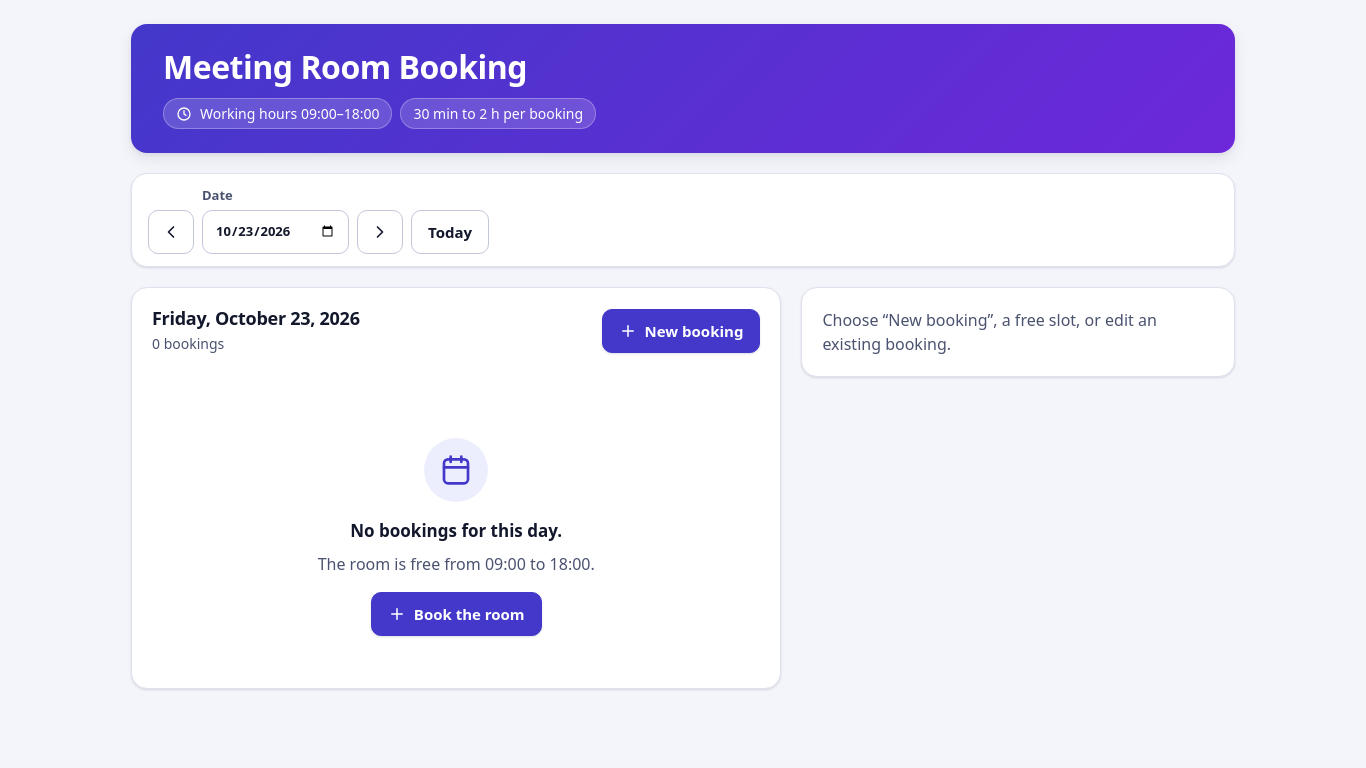
Test: creating a booking › books a room and announces success
Expected: the text "No bookings for this day." is shown, [350,518,562,544]
Click the button "New booking" at (681, 331), box [602,309,760,353]
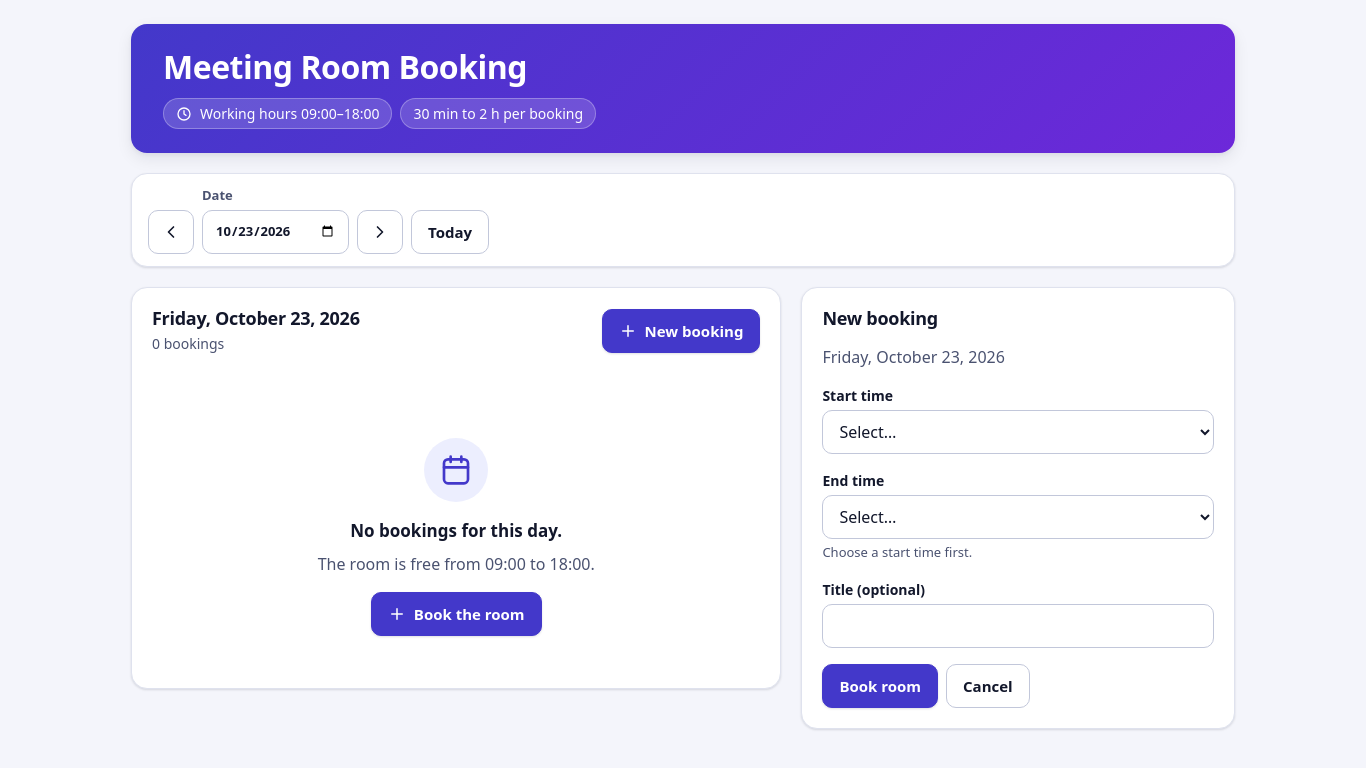
Select "10:00" in the dropdown labelled "Start time" at (1018, 432), box [822,410,1214,454]
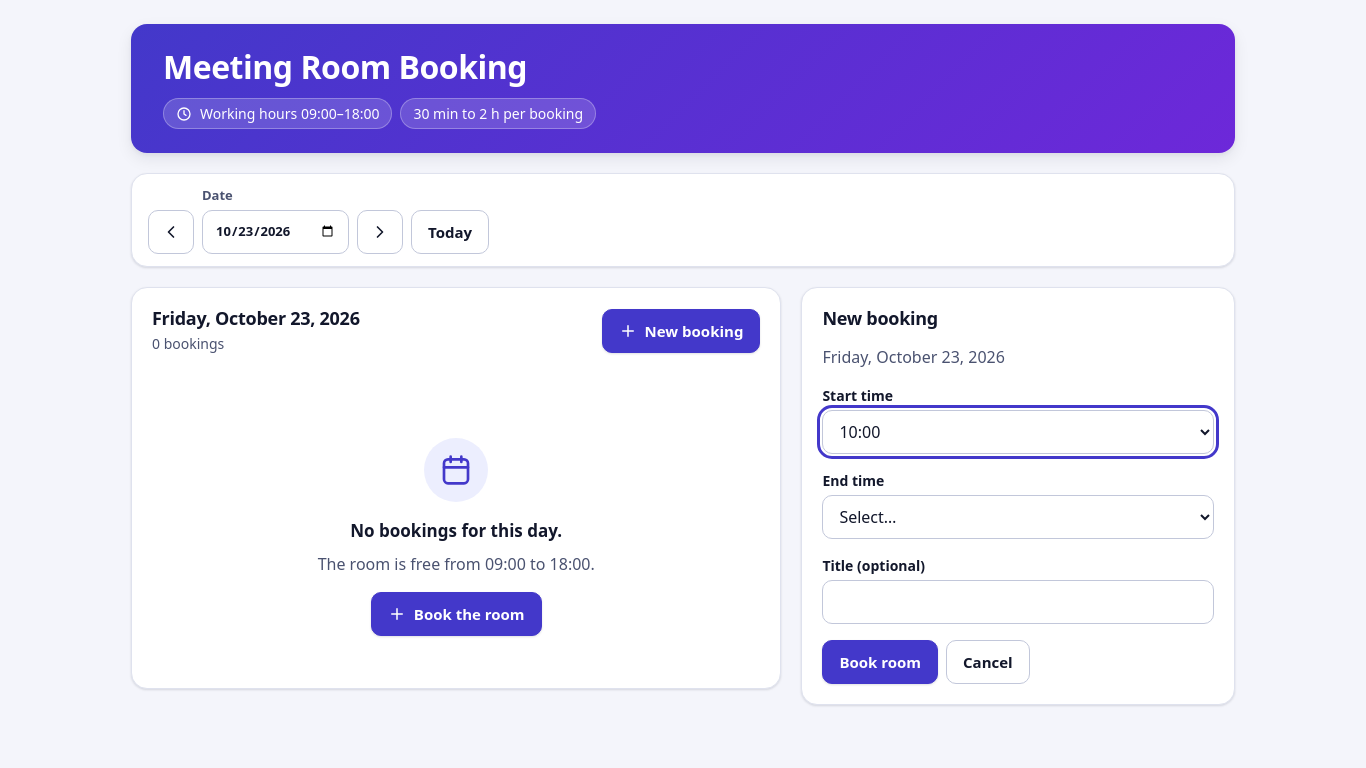
Select "11:00" in the dropdown labelled "End time" at (1018, 518), box [822,496,1214,540]
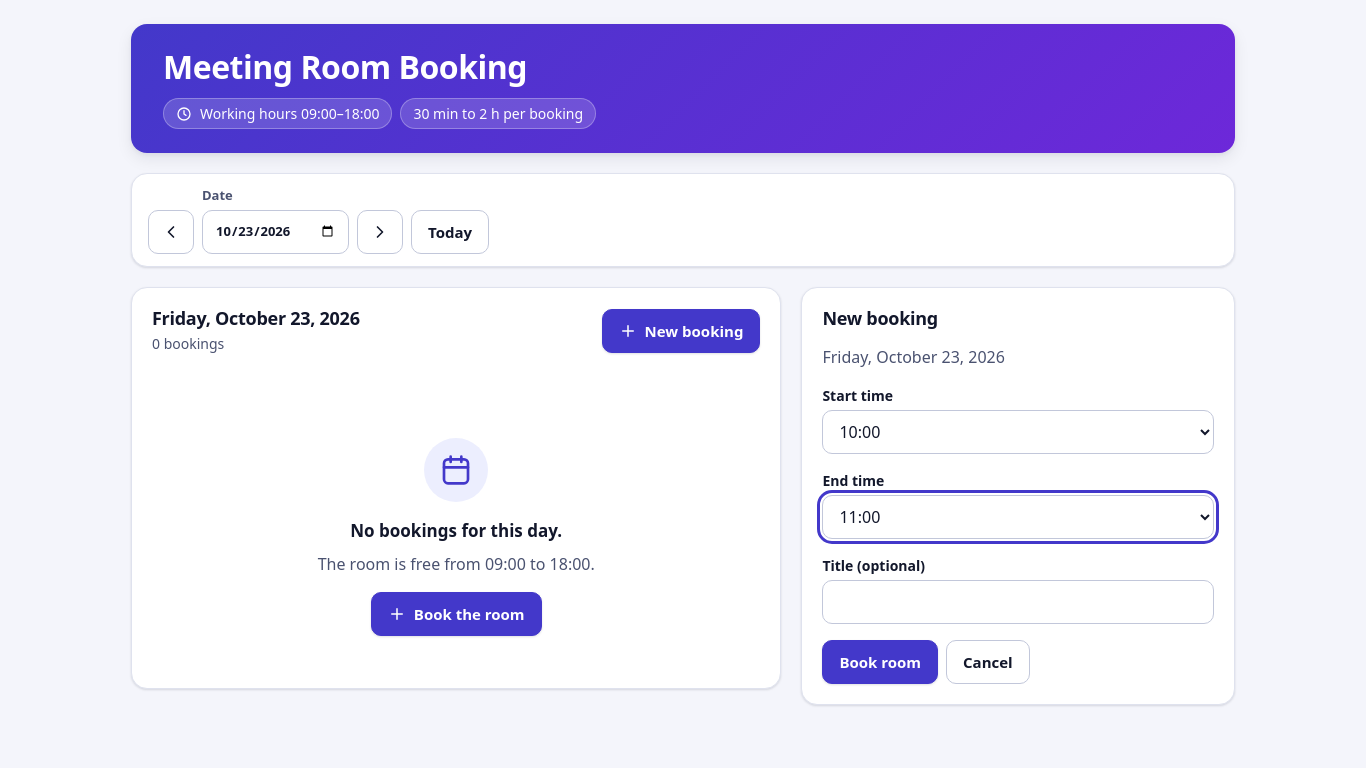
Type "Kickoff" into the field labelled "Title (optional)" at (1018, 602), box [822,580,1214,624]
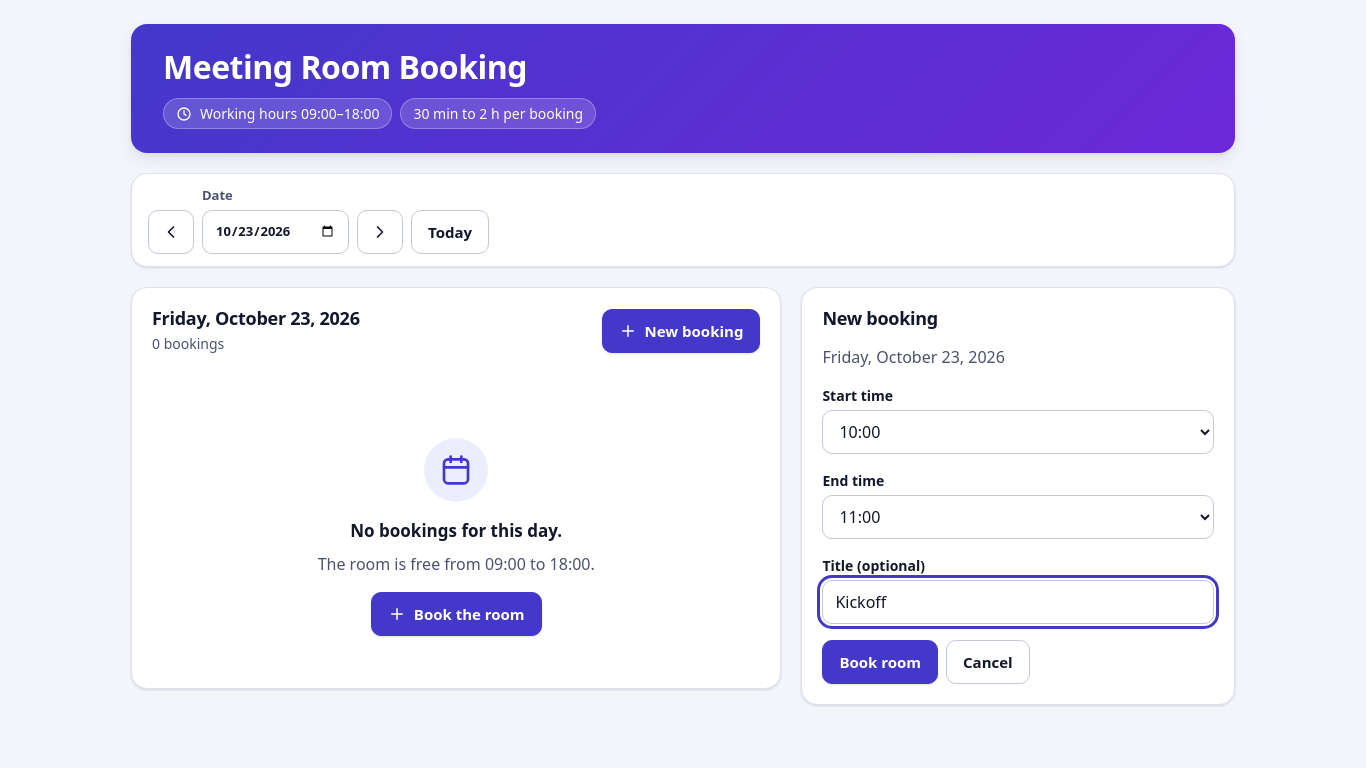
Click the button "Book room" at (880, 662), box [822,640,938,684]
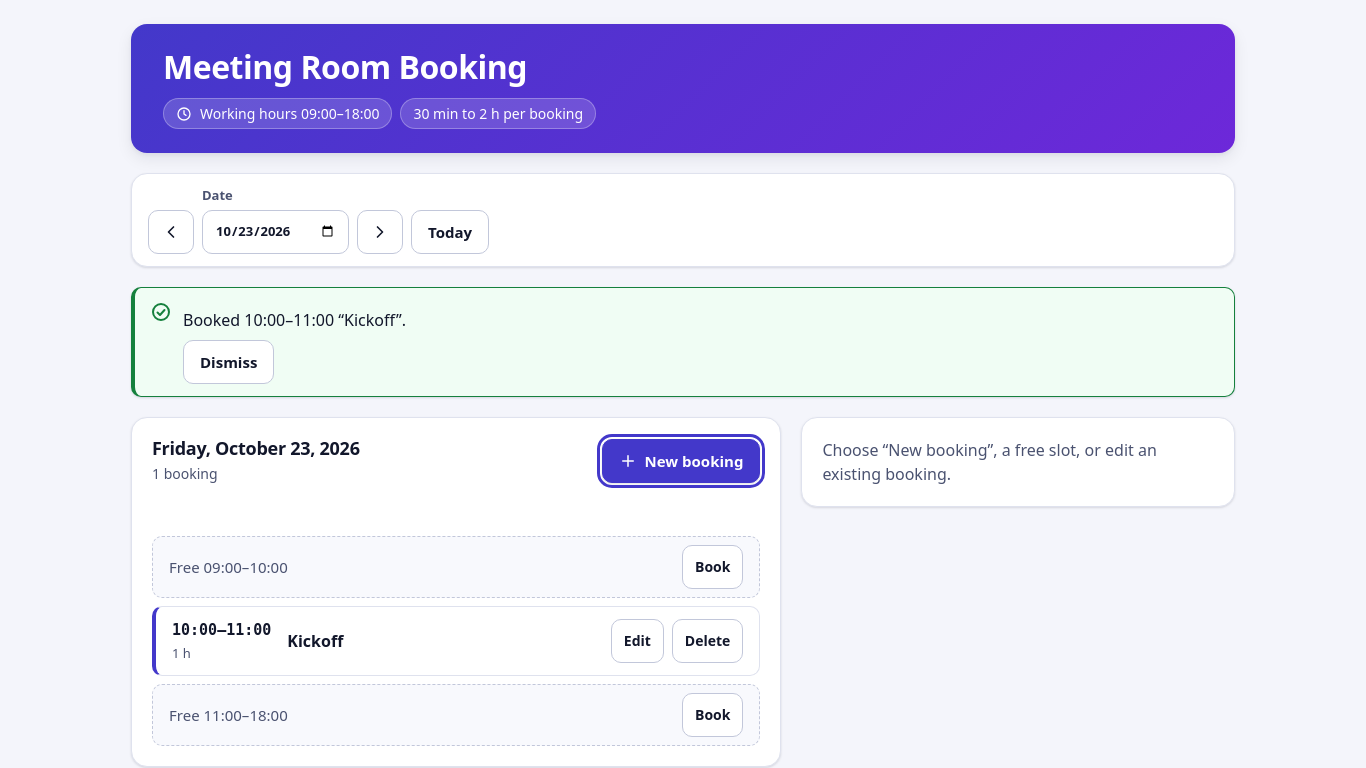
Result: the text "Booked 10:00–11:00 “Kickoff”." is shown at [183,309,406,331]
Result: the button with aria-label "Edit booking 10:00–11:00 “Kickoff”" is shown at [611,620,664,664]
Result: the label labelled "Start time" is gone
